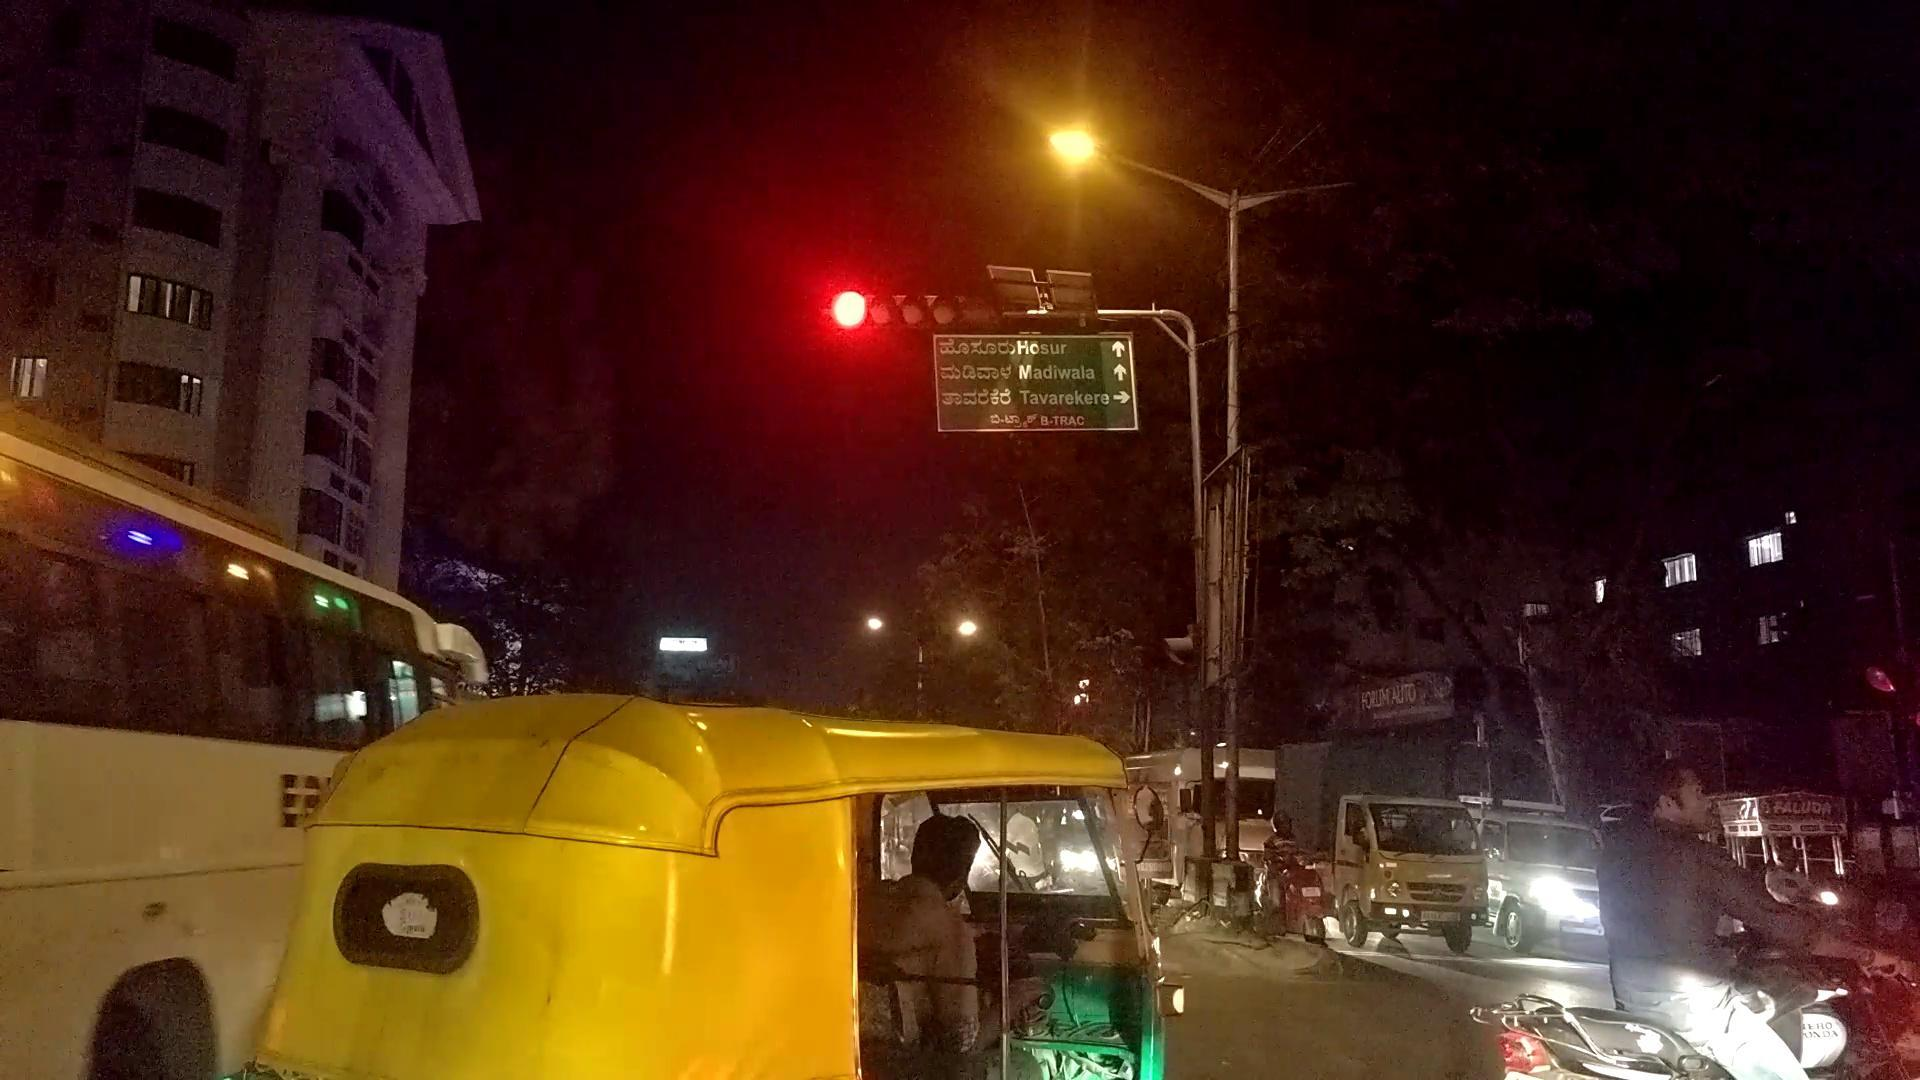on: (949, 50, 1263, 195)
